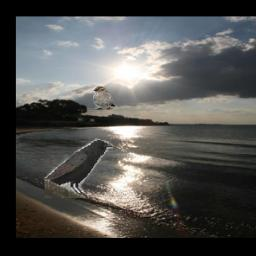Crow: (44, 139, 112, 199)
Sparrow: (92, 86, 115, 110)
